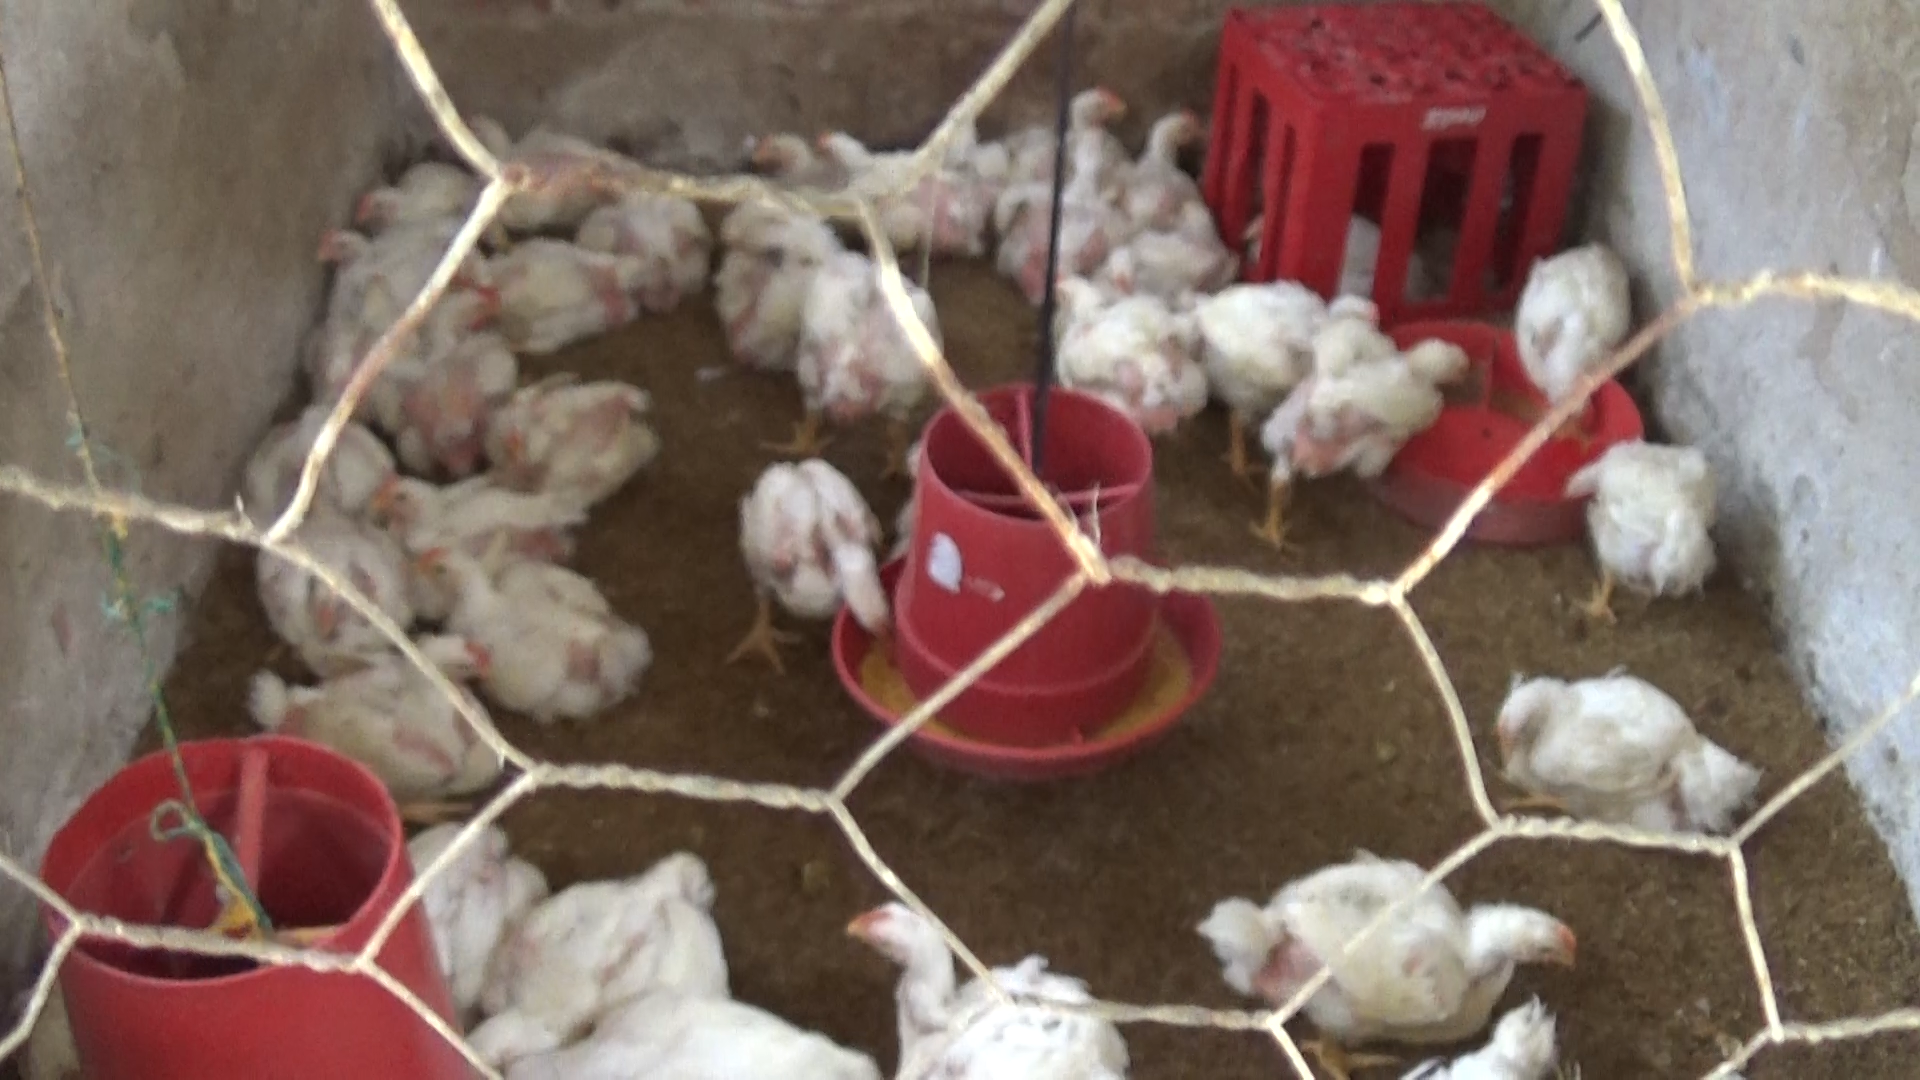Pollos: (1200, 847, 1585, 1056), (462, 839, 721, 1065), (825, 893, 1127, 1080), (247, 620, 501, 804), (1486, 671, 1756, 839), (413, 538, 653, 719), (727, 452, 909, 651), (1259, 320, 1472, 483), (501, 994, 878, 1080), (357, 276, 526, 462), (1563, 436, 1730, 612), (389, 810, 541, 996), (1196, 277, 1386, 413), (795, 249, 939, 429), (479, 372, 666, 508), (1042, 268, 1197, 429), (371, 464, 578, 570), (1509, 232, 1636, 396), (260, 505, 406, 634), (475, 224, 642, 331), (1002, 154, 1120, 301), (574, 161, 707, 289), (1112, 111, 1222, 243), (1013, 86, 1139, 185), (298, 231, 436, 307), (356, 175, 469, 252), (804, 115, 901, 177), (742, 117, 825, 181)
